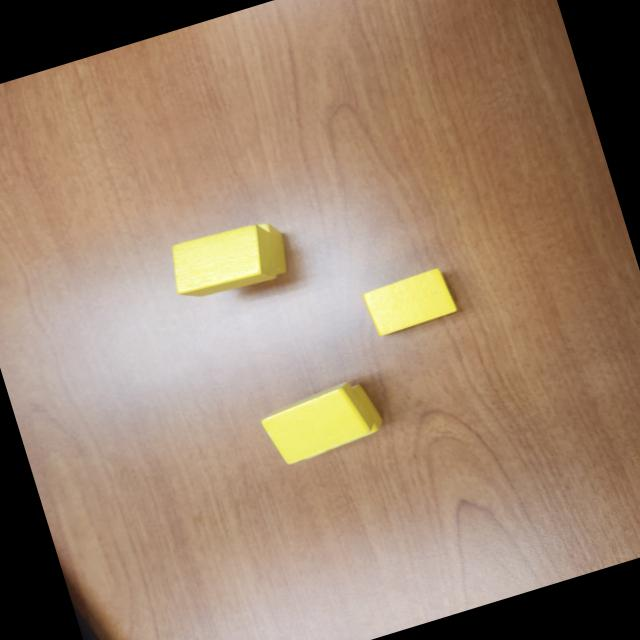yellow: (255, 377, 378, 469), (164, 216, 282, 307), (286, 378, 389, 461), (359, 264, 461, 338), (236, 218, 294, 282)
